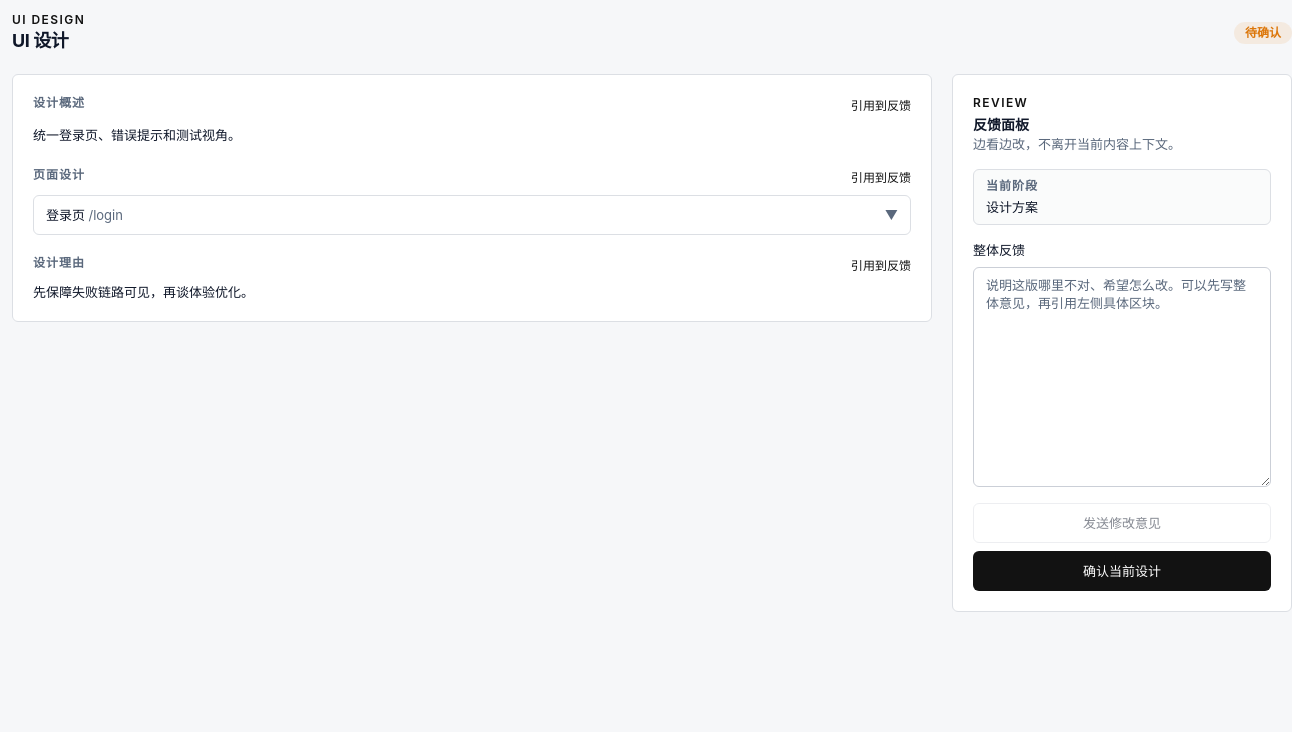
IdeationDesignPanel › keeps revise and confirm actions inside a persistent review sidebar for design confirmation
Step 1. Click the button "引用到反馈" in the row of "页面设计" → (881, 178), box [851, 170, 911, 186]
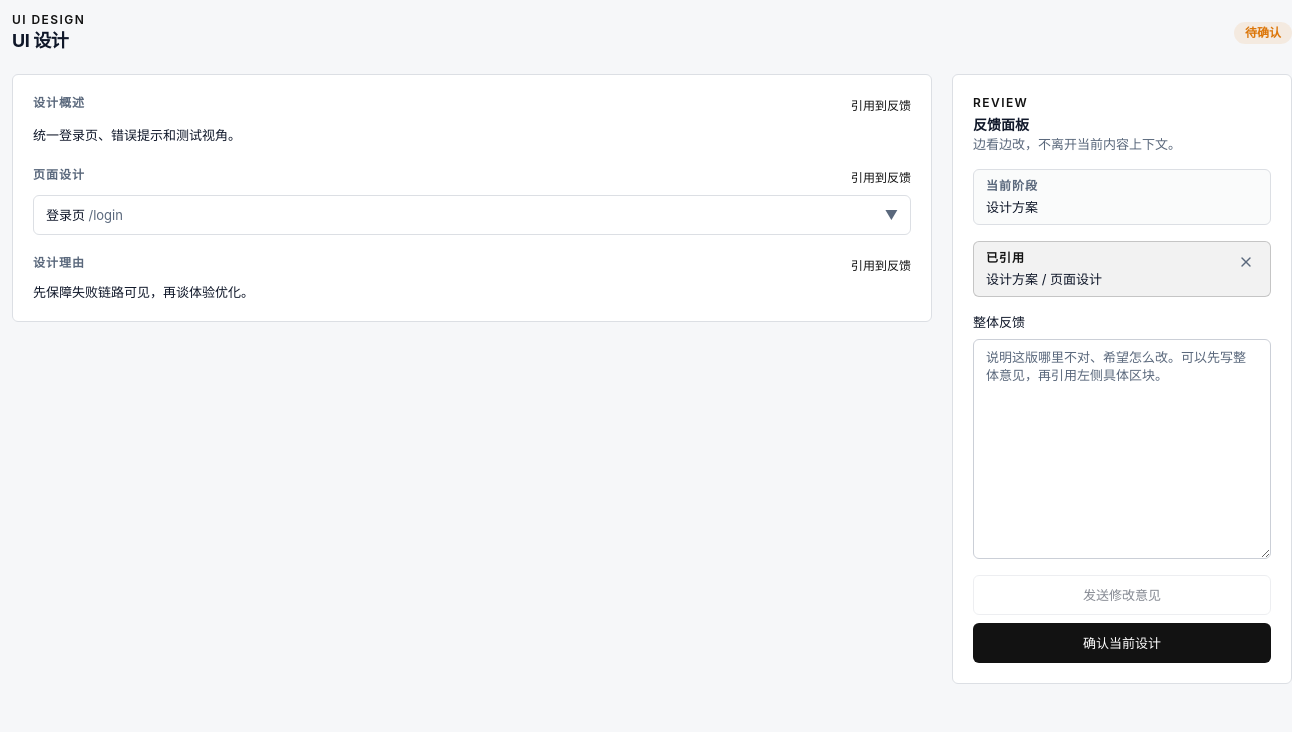
Expected: the text "已引用" is shown, [986, 250, 1025, 265]
Expected: the text "设计方案 / 页面设计" is shown, [986, 270, 1102, 288]
